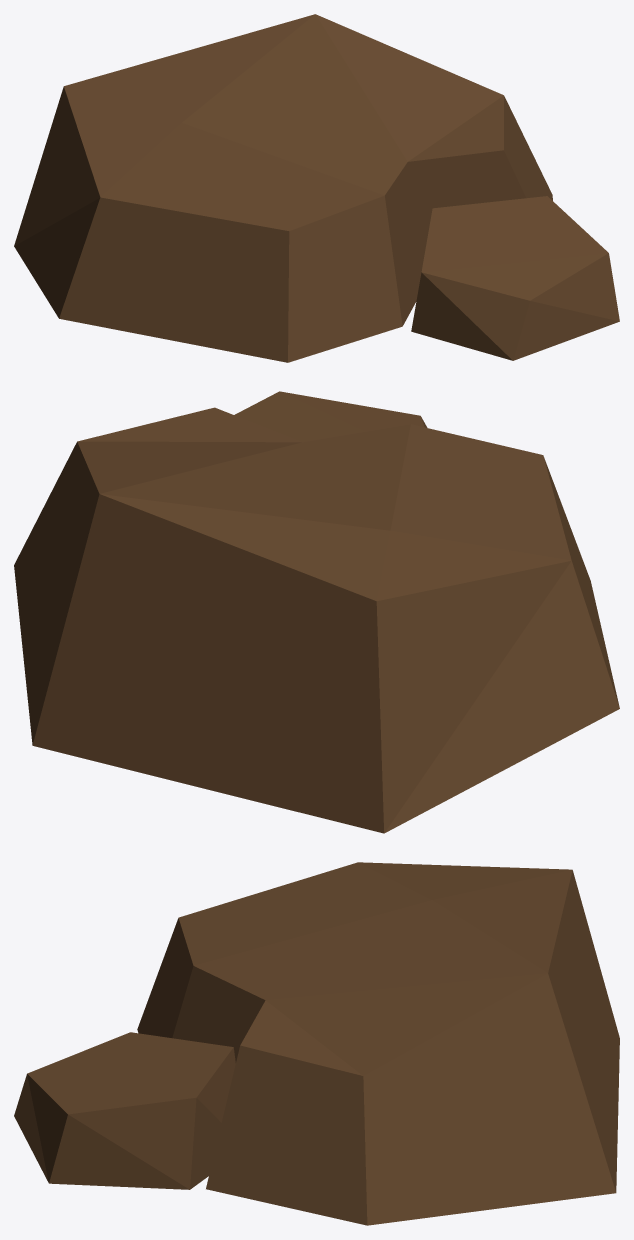
File: stone-flat_brown.glb
The picture shows the model from 3 angles, top to bottom: view 1: azimuth 30°, elevation 25°; view 2: azimuth 150°, elevation 25°; view 3: azimuth 270°, elevation 25°; orthographic projection. The views are drawn at different scales.
Visible parts, largest first — view 1: stone-flat_brown; view 2: stone-flat_brown; view 3: stone-flat_brown.
Boxes of the visible parts, x1,y1,x2,y2 form: stone-flat_brown: (14, 14, 619, 362); stone-flat_brown: (14, 391, 619, 833); stone-flat_brown: (14, 862, 619, 1225).
Size of the model in its own units: 2.32 by 0.8823 by 2.26.
